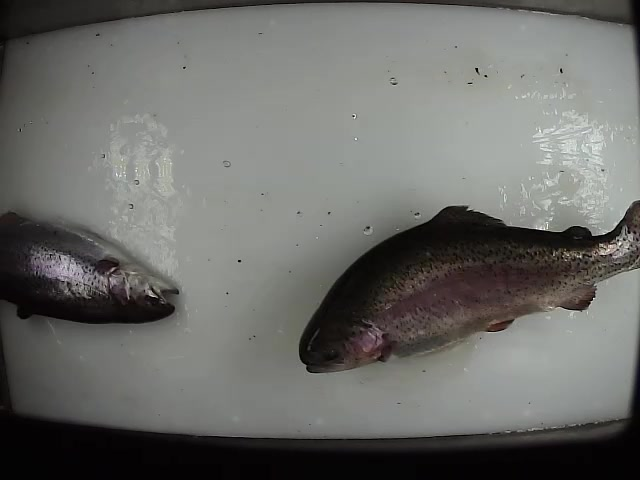fish: (299, 196, 640, 376), (1, 210, 182, 326)
